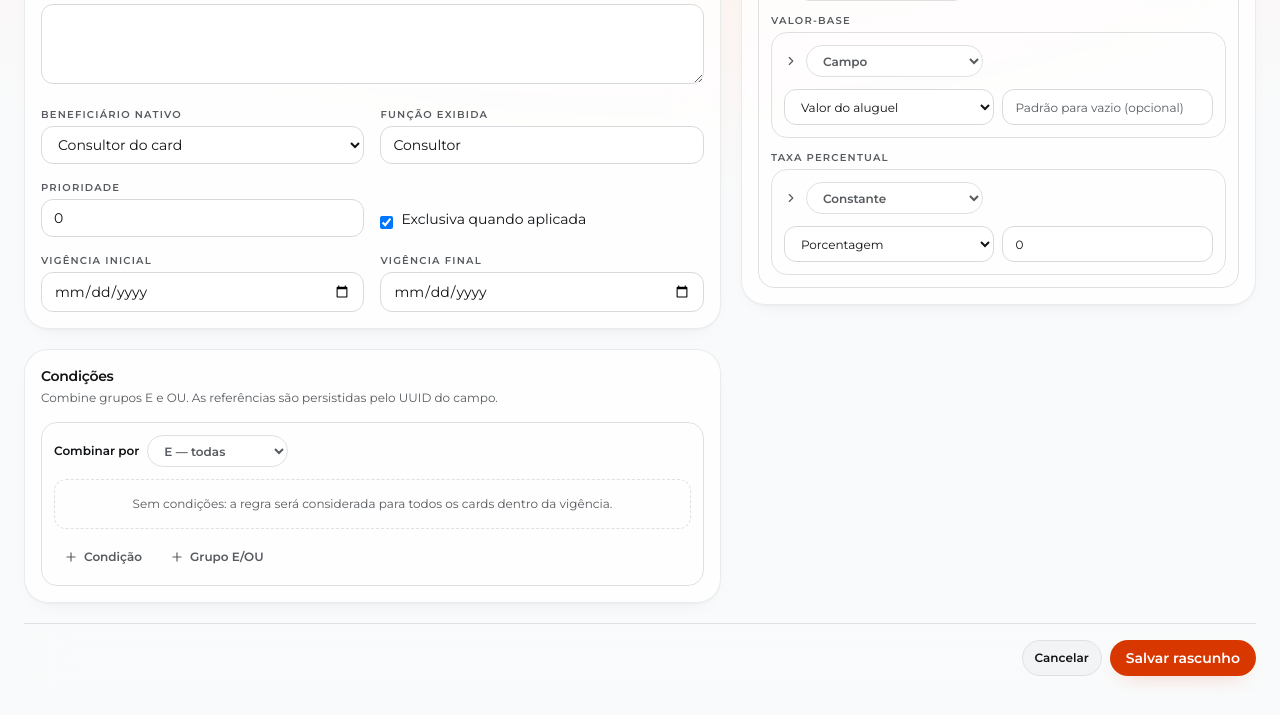
construtor e simulador de comissão › monta visualmente grupos e operações sem código livre
The image size is (1280, 715).
(page scrolled)
Click the button "Grupo E/OU" at (217, 557), box [160,541,274,573]
(page scrolled)
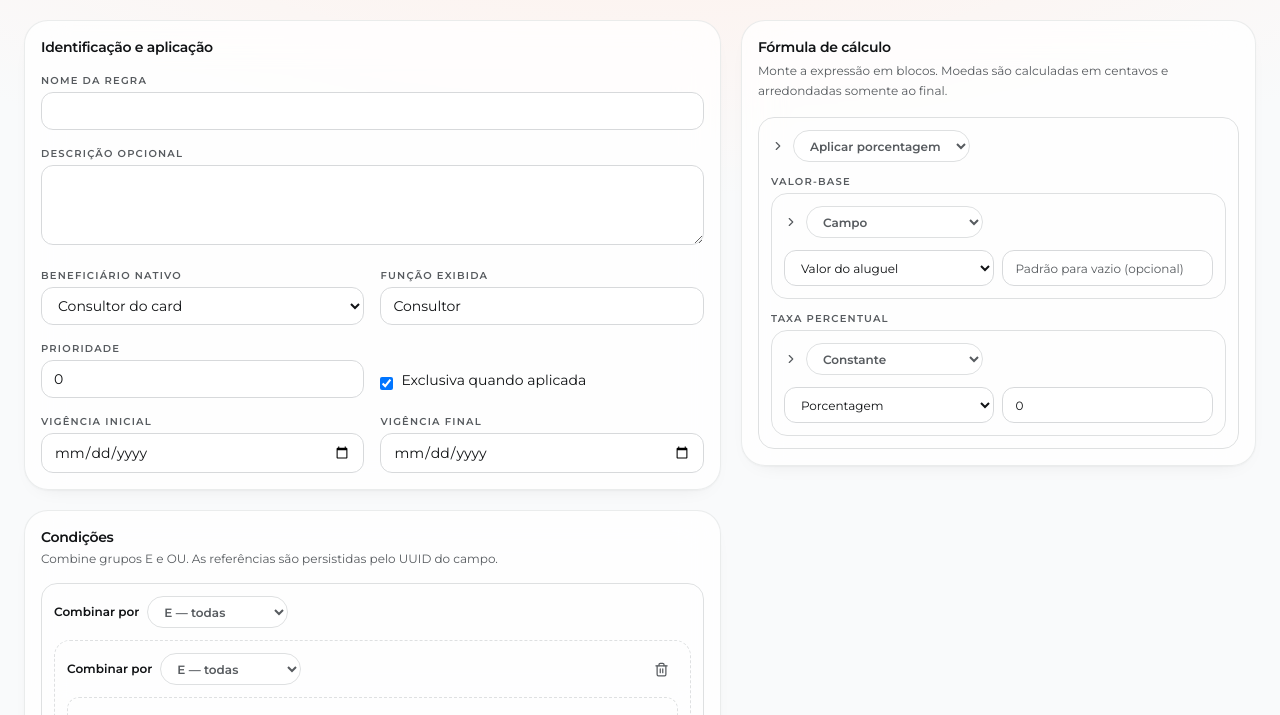
Result: the number of dropdowns named "Combinação do grupo" is 2 at [147,596,288,628]; [160,653,301,685]
Select "Operação" in the 1st dropdown named "Tipo do bloco da fórmula" at (881, 146), box [793,130,970,162]
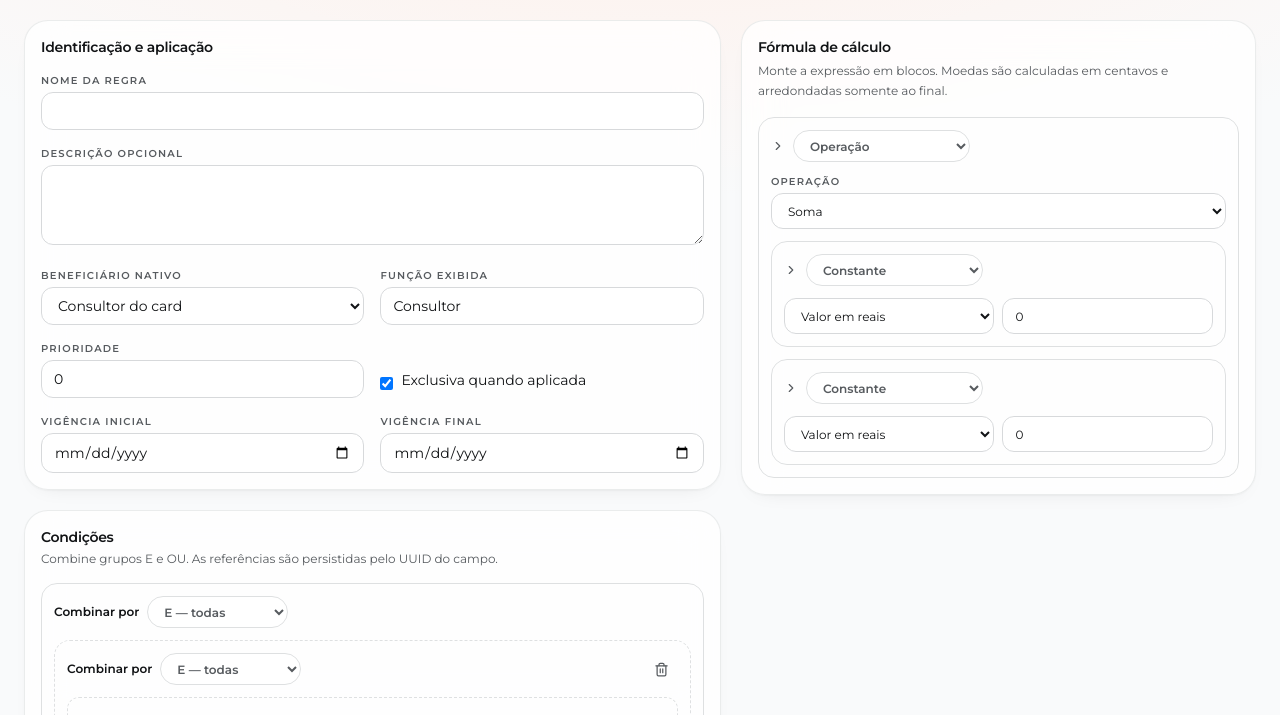
Result: the dropdown named "Operação da fórmula" is shown at [771,193,1226,229]
